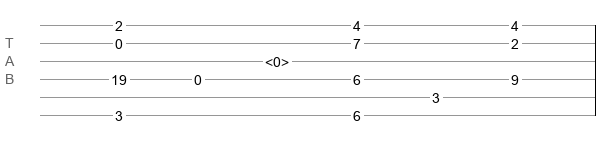0: (115, 36, 123, 46), (194, 72, 202, 82)
19: (111, 72, 127, 82)
2: (115, 18, 123, 28), (511, 36, 519, 46)
3: (115, 108, 123, 118), (432, 90, 440, 100)
4: (353, 18, 361, 28), (511, 18, 519, 28)
6: (353, 108, 361, 118), (353, 72, 361, 82)
7: (353, 36, 361, 46)
9: (511, 72, 519, 82)
harmonic: (265, 54, 289, 64)
